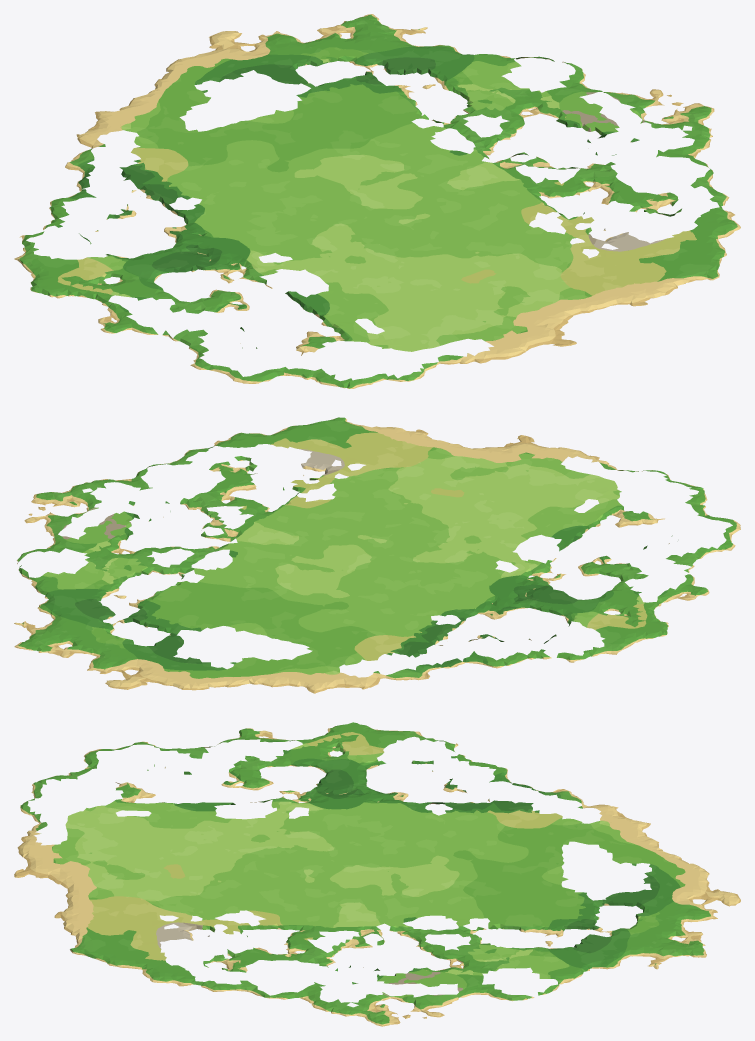
Rendered from Isl-orc3-Ground.fbx.
The picture shows the model from 3 angles, top to bottom: view 1: azimuth 30°, elevation 25°; view 2: azimuth 150°, elevation 25°; view 3: azimuth 270°, elevation 25°; orthographic projection. The views are drawn at different scales.
Visible parts, largest first — view 1: Isl-orc3-Ground-c11, Isl-orc3-Ground-c21, Isl-orc3-Ground-c22, Isl-orc3-Ground-c12, Isl-orc3-Ground-c23, Isl-orc3-Ground-c01, Isl-orc3-Ground-c10, Isl-orc3-Ground-c13, Isl-orc3-Ground-c02, Isl-orc3-Ground-c32, Isl-orc3-Ground-c20, Isl-orc3-Ground-c31; view 2: Isl-orc3-Ground-c11, Isl-orc3-Ground-c12, Isl-orc3-Ground-c22, Isl-orc3-Ground-c21, Isl-orc3-Ground-c23, Isl-orc3-Ground-c01, Isl-orc3-Ground-c13, Isl-orc3-Ground-c10, Isl-orc3-Ground-c02, Isl-orc3-Ground-c32, Isl-orc3-Ground-c20, Isl-orc3-Ground-c31; view 3: Isl-orc3-Ground-c11, Isl-orc3-Ground-c21, Isl-orc3-Ground-c22, Isl-orc3-Ground-c12, Isl-orc3-Ground-c23, Isl-orc3-Ground-c10, Isl-orc3-Ground-c01, Isl-orc3-Ground-c13, Isl-orc3-Ground-c32, Isl-orc3-Ground-c02, Isl-orc3-Ground-c20, Isl-orc3-Ground-c31.
Boxes of the visible parts, x1,y1,x2,y2 form: Isl-orc3-Ground-c11: (125, 201, 543, 377); Isl-orc3-Ground-c21: (389, 149, 740, 313); Isl-orc3-Ground-c22: (273, 45, 639, 200); Isl-orc3-Ground-c12: (49, 96, 389, 266); Isl-orc3-Ground-c23: (193, 14, 427, 79); Isl-orc3-Ground-c01: (33, 266, 273, 383); Isl-orc3-Ground-c10: (300, 313, 576, 388); Isl-orc3-Ground-c13: (94, 56, 224, 126); Isl-orc3-Ground-c02: (14, 214, 124, 291); Isl-orc3-Ground-c32: (549, 58, 714, 129); Isl-orc3-Ground-c20: (544, 272, 719, 326); Isl-orc3-Ground-c31: (674, 126, 713, 177); Isl-orc3-Ground-c11: (351, 455, 712, 611); Isl-orc3-Ground-c12: (242, 555, 585, 689); Isl-orc3-Ground-c22: (18, 501, 349, 646); Isl-orc3-Ground-c21: (131, 419, 486, 554); Isl-orc3-Ground-c23: (14, 616, 201, 689); Isl-orc3-Ground-c01: (586, 517, 740, 634); Isl-orc3-Ground-c13: (173, 661, 341, 693); Isl-orc3-Ground-c10: (487, 435, 707, 509); Isl-orc3-Ground-c02: (520, 611, 667, 662); Isl-orc3-Ground-c32: (17, 487, 101, 567); Isl-orc3-Ground-c20: (332, 417, 497, 454); Isl-orc3-Ground-c31: (71, 464, 161, 490); Isl-orc3-Ground-c11: (78, 760, 353, 877); Isl-orc3-Ground-c21: (77, 875, 353, 994); Isl-orc3-Ground-c22: (351, 875, 626, 994); Isl-orc3-Ground-c12: (350, 760, 626, 877); Isl-orc3-Ground-c23: (624, 876, 740, 969); Isl-orc3-Ground-c10: (14, 772, 80, 879); Isl-orc3-Ground-c01: (84, 722, 353, 763); Isl-orc3-Ground-c13: (623, 817, 709, 879); Isl-orc3-Ground-c32: (351, 992, 543, 1026); Isl-orc3-Ground-c02: (350, 722, 472, 763); Isl-orc3-Ground-c20: (51, 875, 80, 954); Isl-orc3-Ground-c31: (256, 991, 352, 1016).
Size of the model in its own units: 116 by 0.49 by 117.
